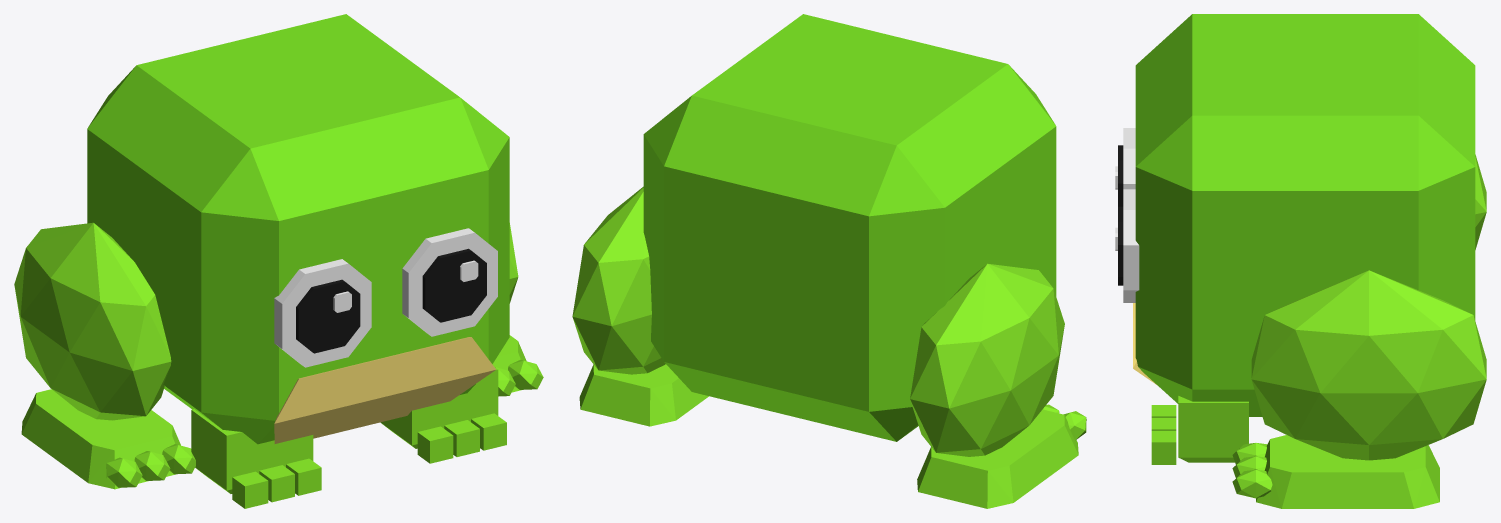
Rendered from Frog.fbx.
The picture shows the model from 3 angles, left to right: view 1: azimuth 30°, elevation 25°; view 2: azimuth 150°, elevation 25°; view 3: azimuth 270°, elevation 25°; orthographic projection. The views are drawn at different scales.
Visible parts, largest first — view 1: Frog, Frog_Legs, Frog_Belly, Frog_Eyes, Frog_Pupils; view 2: Frog, Frog_Legs; view 3: Frog, Frog_Legs, Frog_Eyes, Frog_Pupils.
Boxes of the visible parts, x1,y1,x2,y2 form: Frog: (87, 14, 509, 444); Frog_Legs: (14, 222, 543, 508); Frog_Belly: (274, 337, 496, 443); Frog_Eyes: (274, 228, 497, 367); Frog_Pupils: (296, 248, 486, 353); Frog: (643, 14, 1056, 441); Frog_Legs: (572, 186, 1086, 508); Frog: (1135, 14, 1475, 416); Frog_Legs: (1151, 154, 1486, 508); Frog_Eyes: (1115, 128, 1139, 302); Frog_Pupils: (1118, 145, 1123, 285).
Size of the model in its own units: 2.88 by 2.1 by 2.1.
